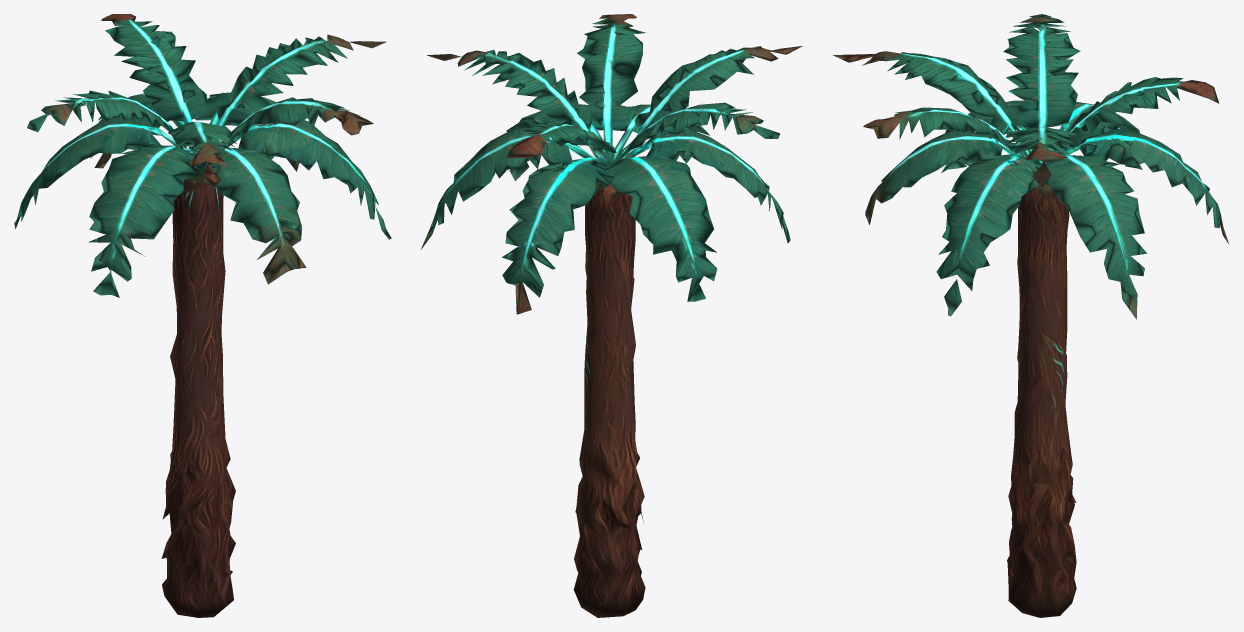
The picture shows the model from 3 angles, left to right: view 1: azimuth 30°, elevation 25°; view 2: azimuth 150°, elevation 25°; view 3: azimuth 270°, elevation 25°; orthographic projection. The views are drawn at different scales.
Parts seen in each view (by area): view 1: Mesh_0; view 2: Mesh_0; view 3: Mesh_0.
Part boxes in pixels (<box>): Mesh_0: <box>14,14,391,617</box>; Mesh_0: <box>421,14,802,617</box>; Mesh_0: <box>833,14,1229,617</box>.
Size of the model in its own units: 1.33 by 1.91 by 1.3.
Materials: 1 (1 with a texture image).
